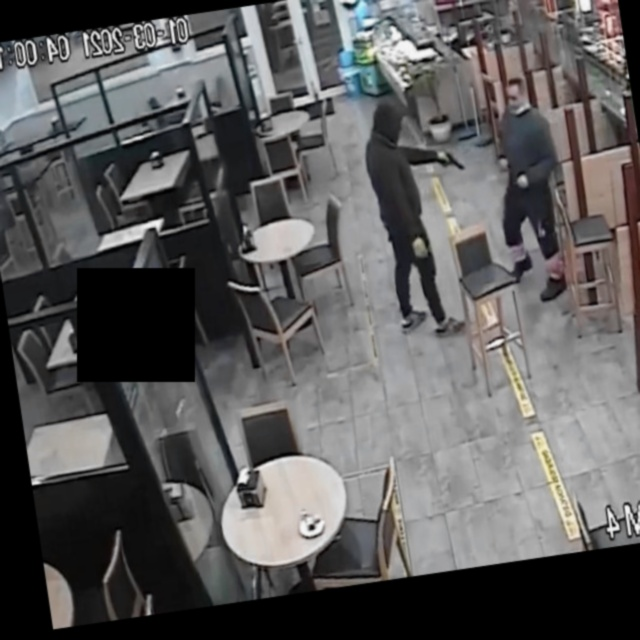gun: (422, 141, 474, 189)
